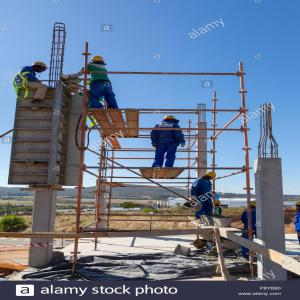yellow: (32, 63, 49, 74), (92, 56, 106, 65), (205, 172, 218, 181), (164, 116, 177, 123), (213, 200, 222, 208), (250, 201, 258, 210), (296, 202, 300, 212)
